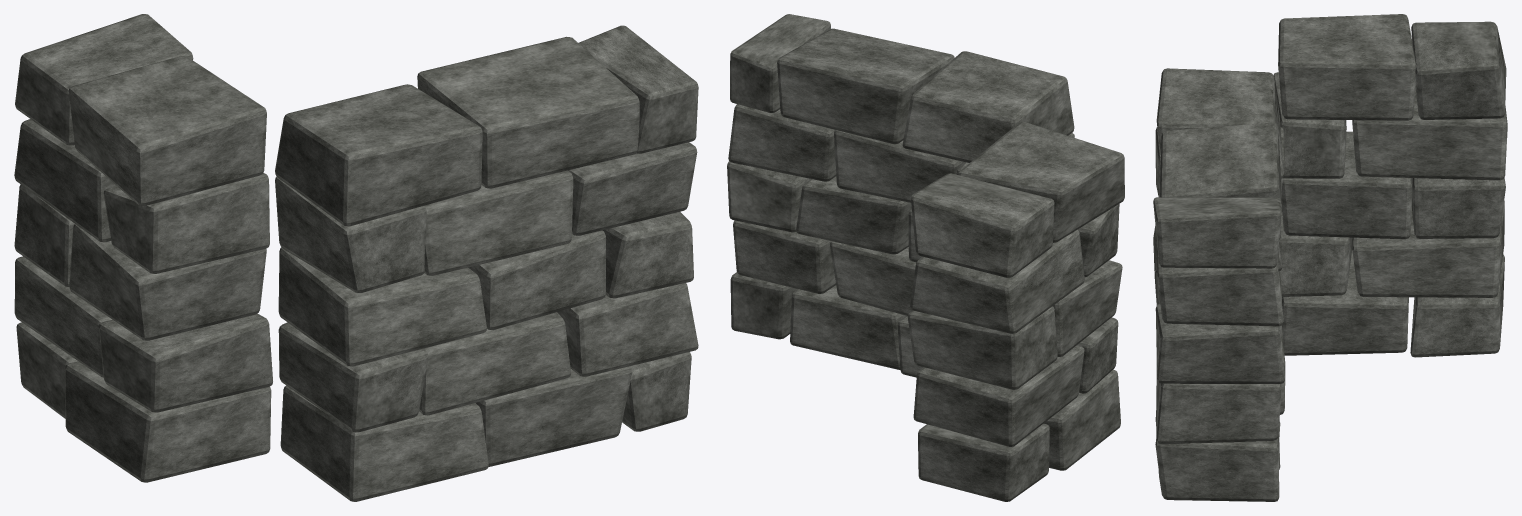
Rendered from 03_Wall_Corner.glb.
The picture shows the model from 3 angles, left to right: view 1: azimuth 30°, elevation 25°; view 2: azimuth 150°, elevation 25°; view 3: azimuth 270°, elevation 25°; orthographic projection. The views are drawn at different scales.
Visible parts, largest first — view 1: 03_Wall_Corner; view 2: 03_Wall_Corner; view 3: 03_Wall_Corner.
Boxes of the visible parts, x1,y1,x2,y2 form: 03_Wall_Corner: (14,14,698,501); 03_Wall_Corner: (727,14,1124,501); 03_Wall_Corner: (1153,14,1507,501).
Size of the model in its own units: 2.52 by 1.71 by 1.86.
Materials: 1 (1 with a texture image).
